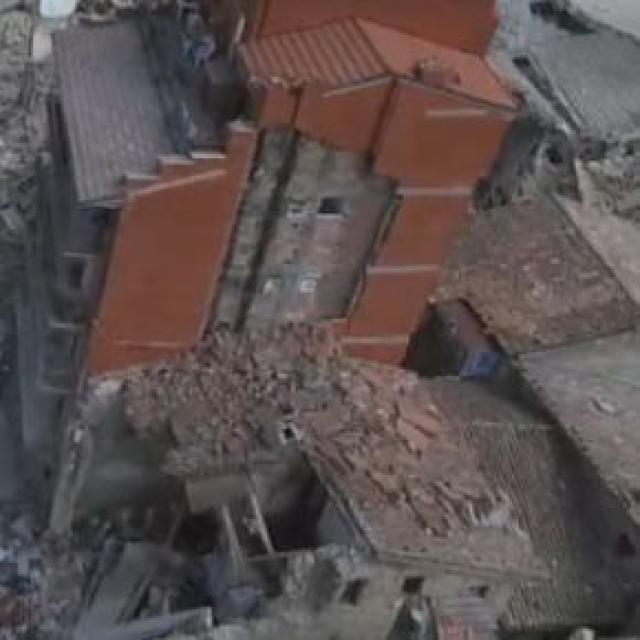collapsed_building: (95, 367, 574, 629)
